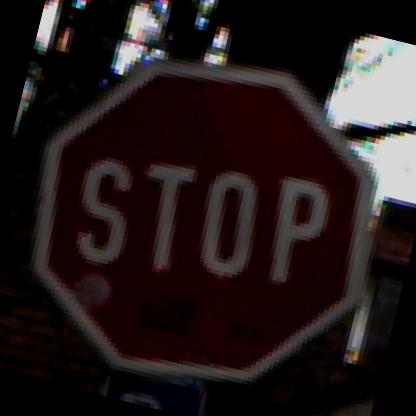stop: (0, 29, 412, 415)
